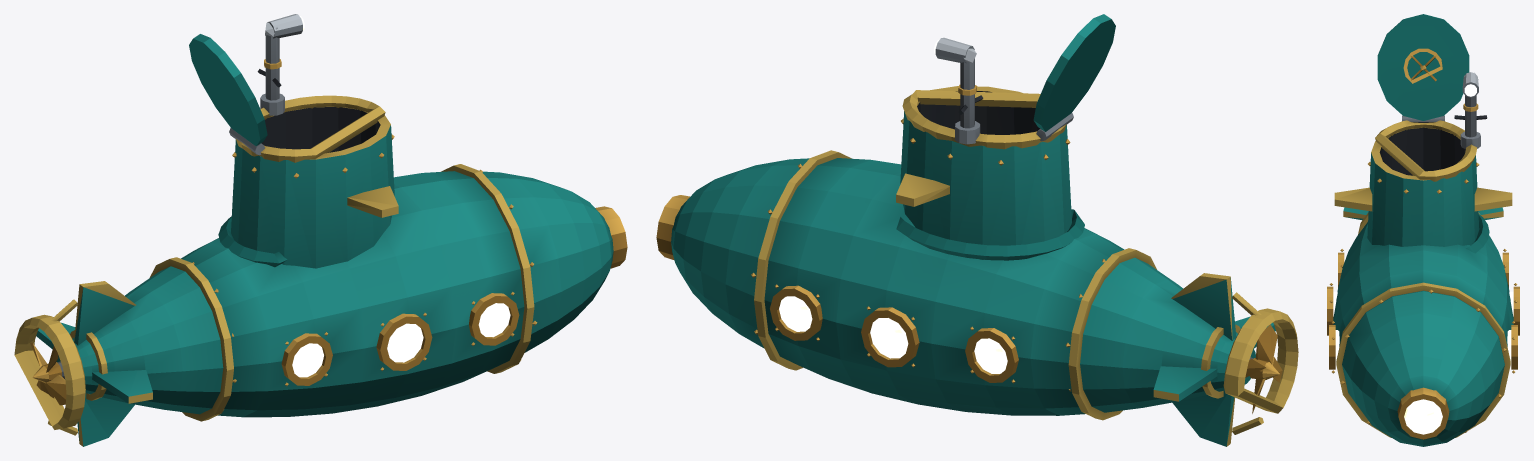
The model's file is mt_submarine_teal.glb.
3 renders of one model, left to right at view 1: azimuth 30°, elevation 25°; view 2: azimuth 150°, elevation 25°; view 3: azimuth 270°, elevation 25°, orthographic. The views are drawn at different scales.
Visible parts, largest first — view 1: base, periscope_m, fins_m, prop_m; view 2: base, periscope_m, fins_m, prop_m; view 3: base, periscope_m, fins_m.
Part boxes in pixels (bbox=[...]): base: bbox=[14, 34, 627, 446]; periscope_m: bbox=[257, 14, 304, 115]; fins_m: bbox=[36, 322, 152, 403]; prop_m: bbox=[30, 342, 66, 405]; base: bbox=[656, 14, 1298, 446]; periscope_m: bbox=[934, 37, 983, 144]; fins_m: bbox=[1153, 316, 1275, 401]; prop_m: bbox=[1245, 324, 1282, 413]; base: bbox=[1327, 14, 1519, 446]; periscope_m: bbox=[1454, 72, 1487, 148]; fins_m: bbox=[1343, 207, 1503, 220].
Size of the model in its own units: 1.03 by 0.6694 by 0.3608.
